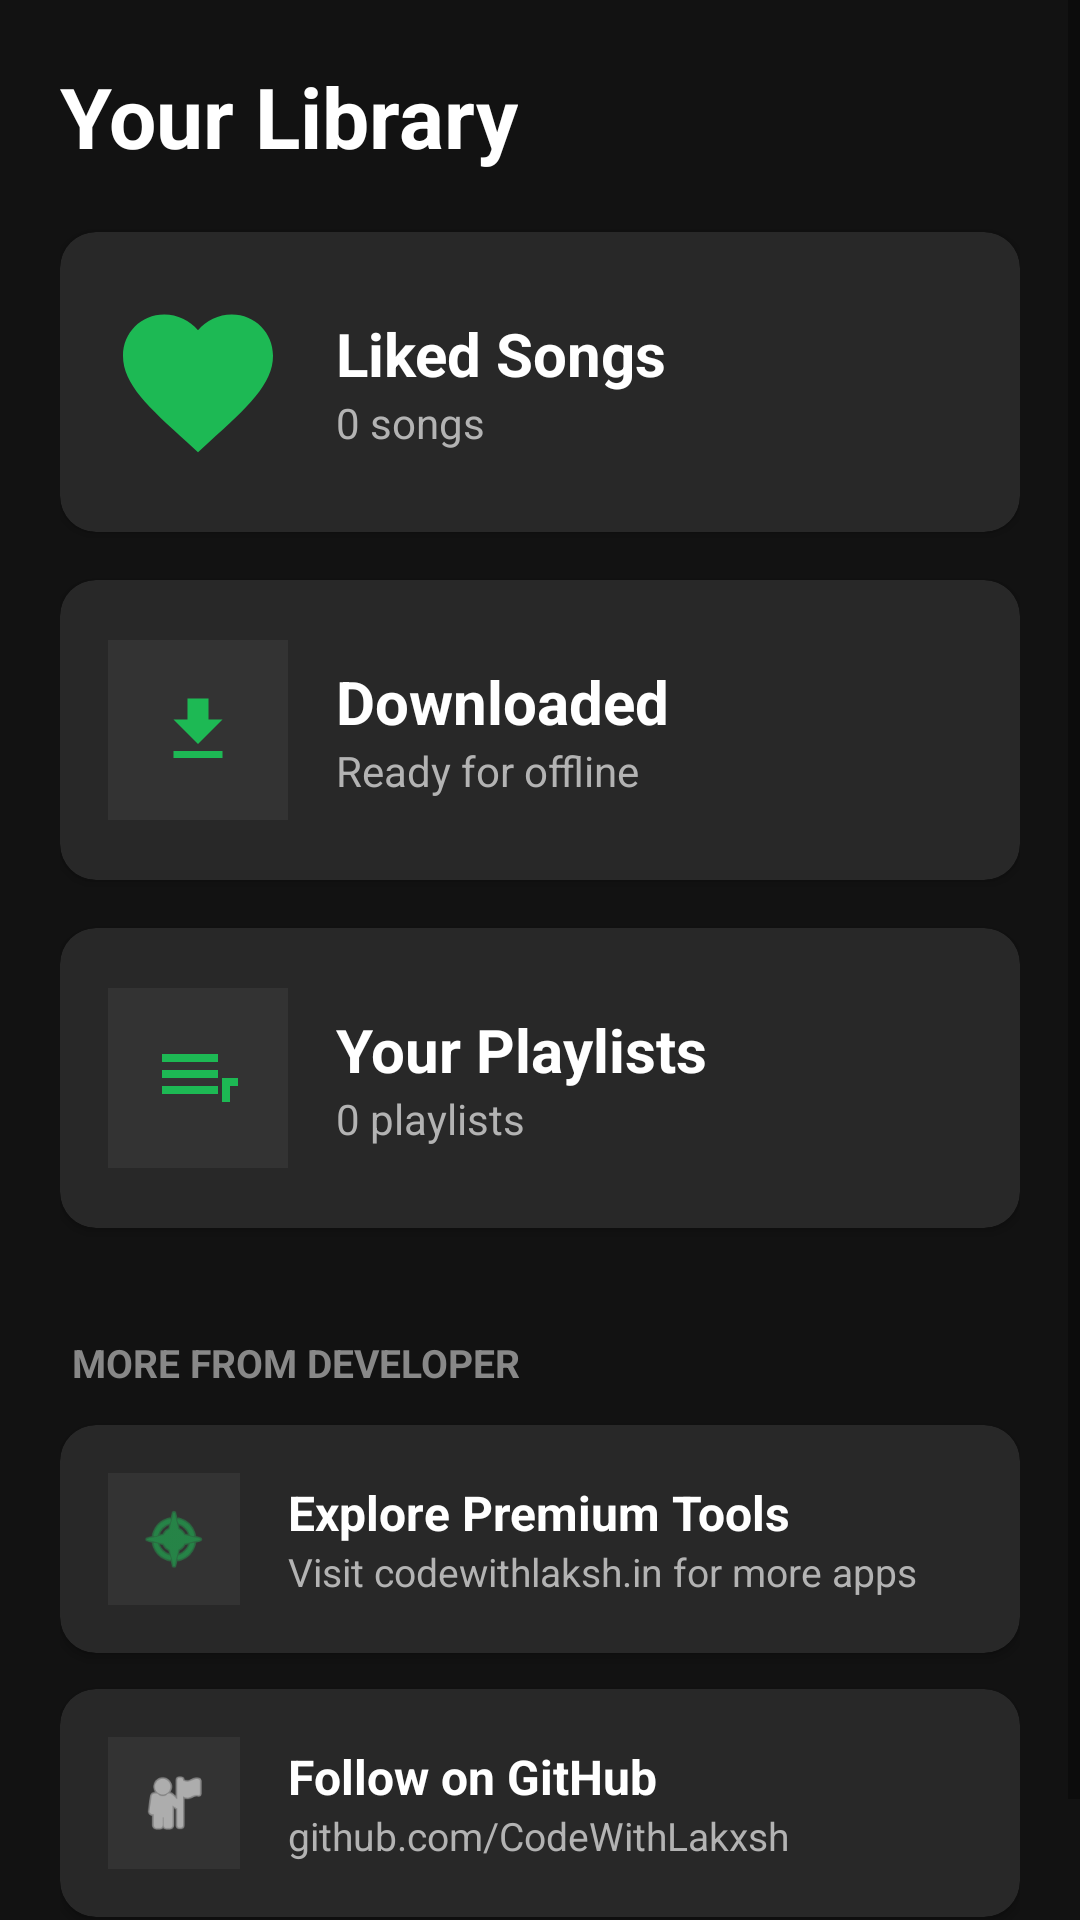

Screen size 1080 × 1920. Icon name, then its center in pixels as (x=x, y=y):
compass: (x=173, y=1539)
heart: (x=198, y=383)
myplaces: (x=175, y=1803)
